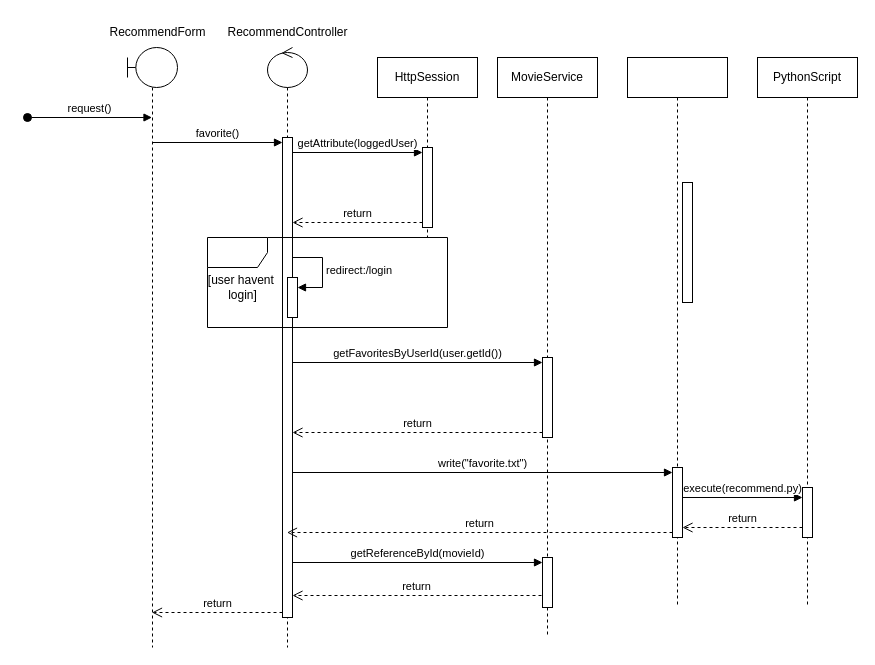
The diagram is 875 pixels wide and 665 high, and some of its shapes have lost their labels. The shapes that lost their labels are listed below. From the top down, each one's box as (x1, y1, x2, y2) in pixels, then its label:
(206, 236, 448, 328): break
(626, 56, 728, 608): FileSystem
